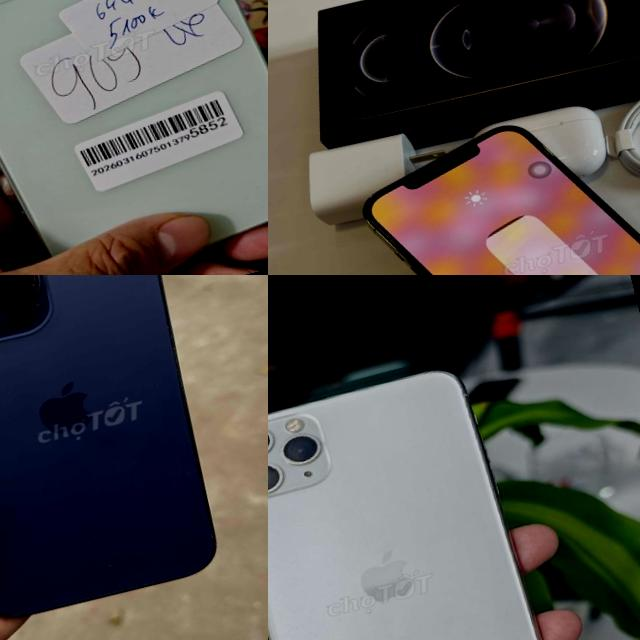gen_11: (268, 347, 584, 640)
gen_12_13: (0, 0, 268, 275), (348, 80, 640, 275)
gen_14: (0, 275, 239, 633)
